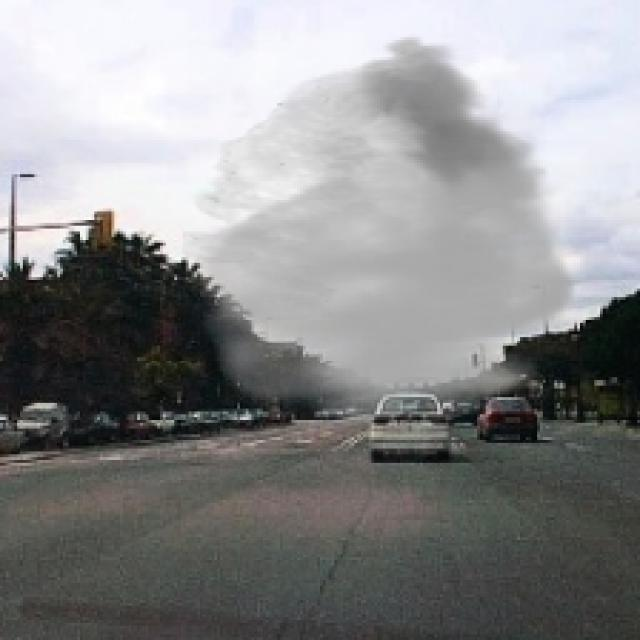Smoke: (183, 34, 583, 426)
